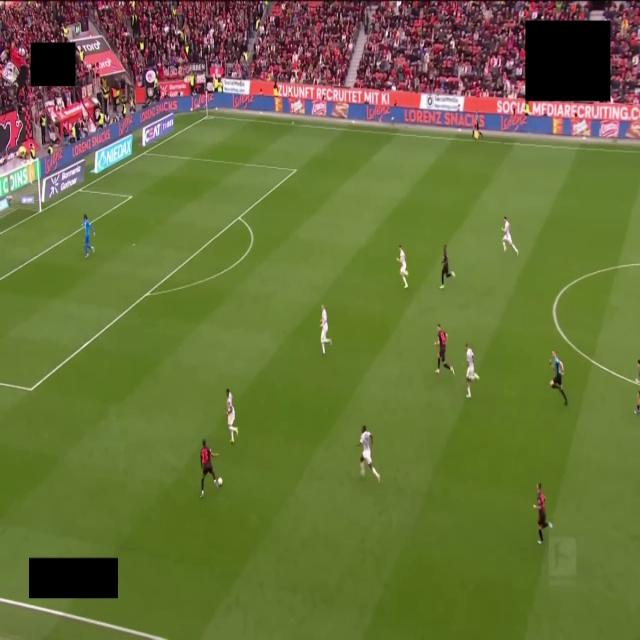ball: (218, 478, 222, 487)
player: (359, 426, 380, 481), (534, 483, 552, 543), (435, 325, 454, 375), (201, 440, 217, 497), (466, 344, 478, 398), (502, 216, 518, 255), (226, 389, 237, 443), (441, 245, 454, 288), (321, 305, 331, 355), (397, 246, 408, 288), (83, 215, 94, 257), (473, 112, 483, 139), (635, 390, 639, 415)
referee: (550, 351, 567, 405)
